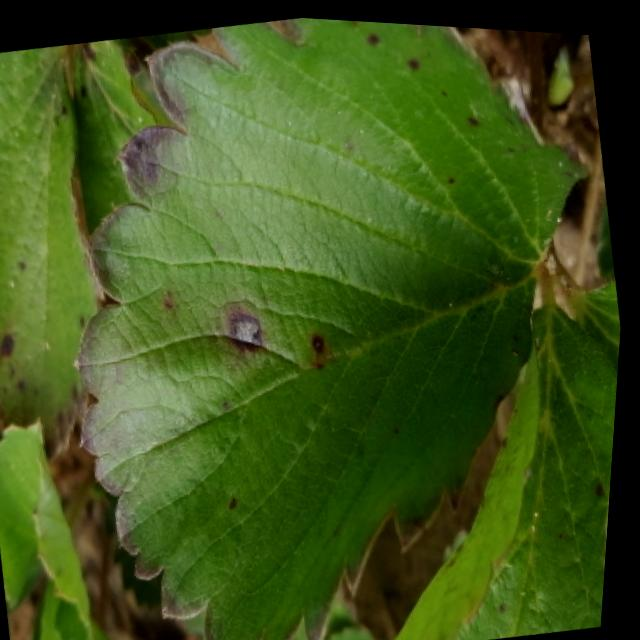Leaf Spot: (76, 14, 590, 640), (397, 295, 622, 640), (0, 43, 109, 461), (61, 35, 180, 237)
